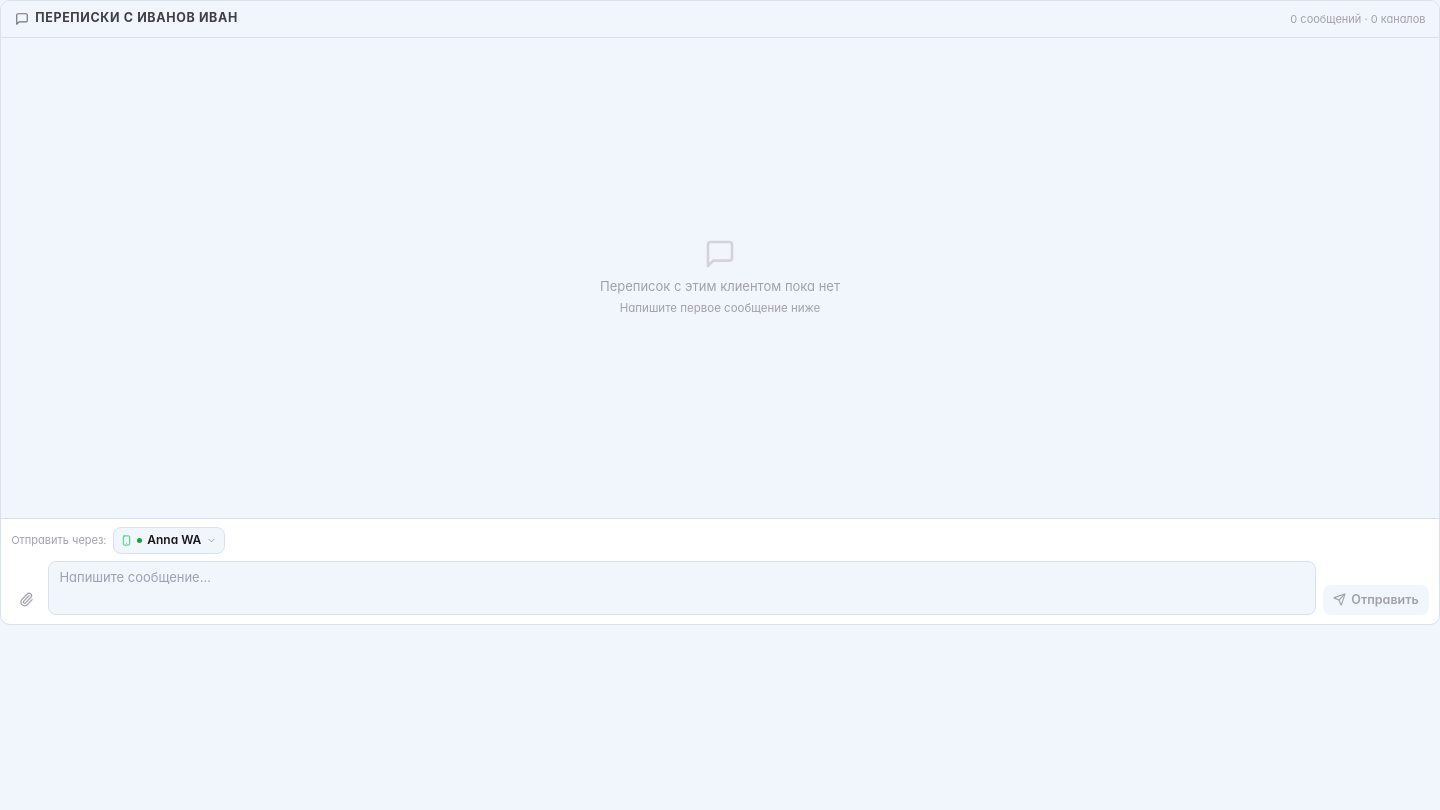
Test case: LeadChatPanel — composer › текст → кнопка enabled
Type "Привет" into the text box with test id "msg-input".
click(682, 588); type("Привет")  # box [48, 561, 1316, 615]
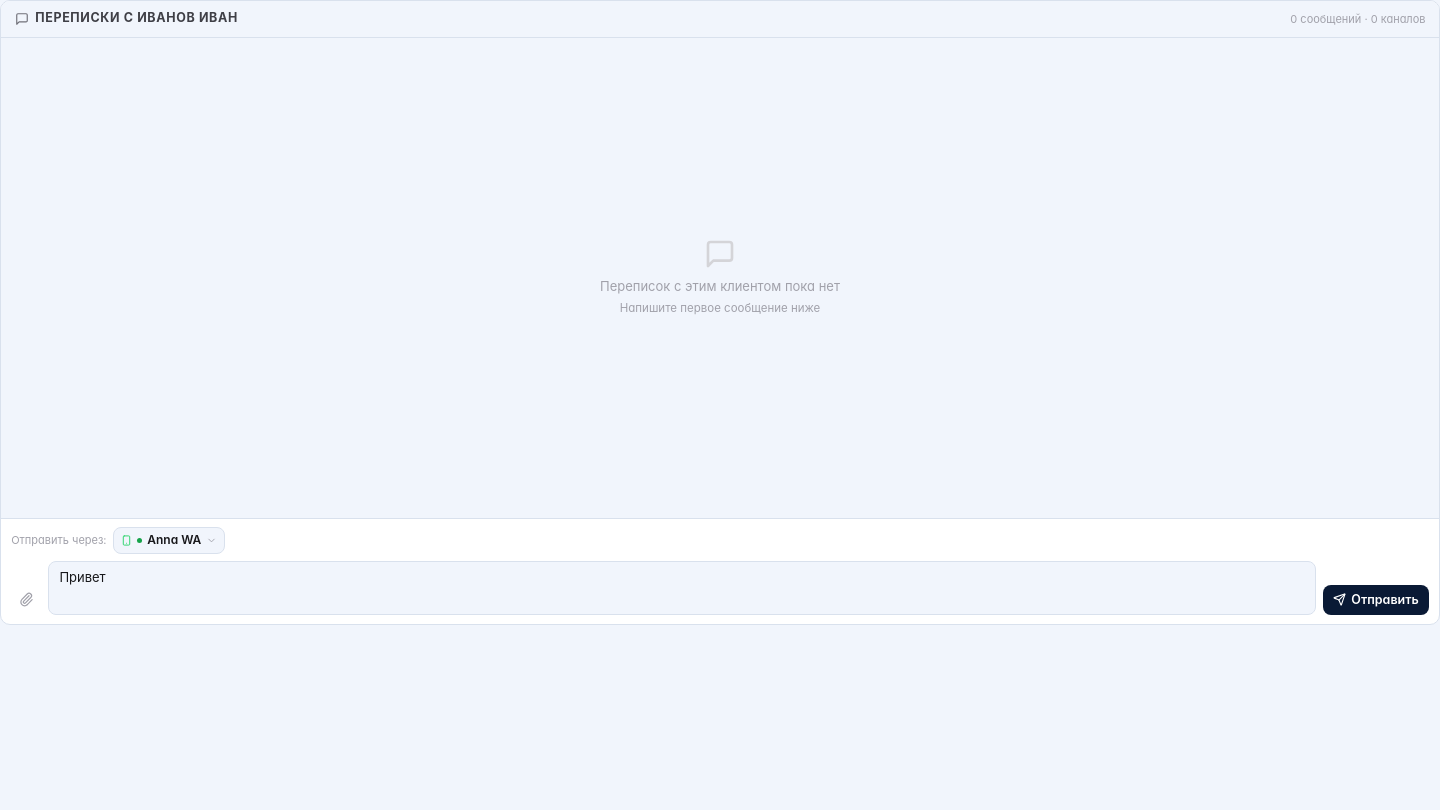
Expected: the button with test id "send-btn" is enabled, [1323, 585, 1429, 615]
